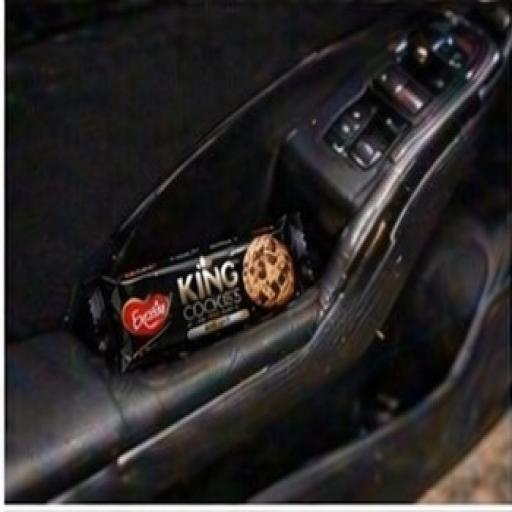king-cooking: (74, 191, 448, 412)
